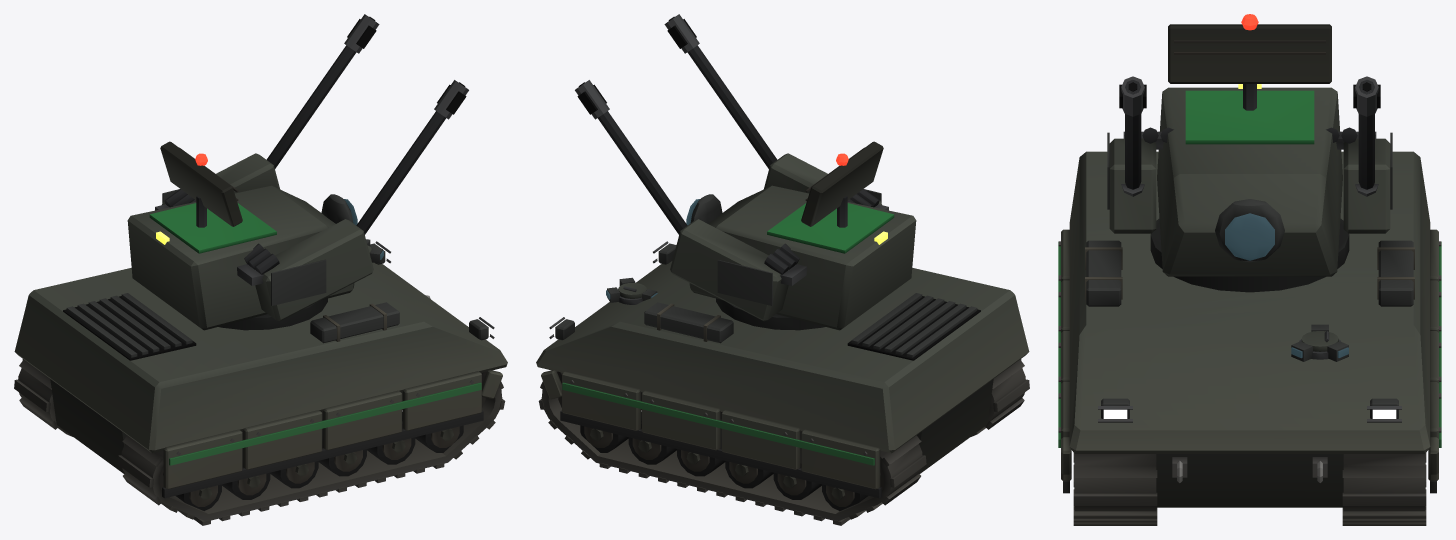
3 views of the same model, side by side, from view 1: azimuth 30°, elevation 25°; view 2: azimuth 150°, elevation 25°; view 3: azimuth 270°, elevation 25° (orthographic). The views are drawn at different scales.
Visible parts, largest first — view 1: Aa_Walls, Aa_turret, Aa_Details, Aa_Foundation, Aa_rotor, Aa_Frame; view 2: Aa_Walls, Aa_turret, Aa_Details, Aa_Foundation, Aa_rotor, Aa_Frame; view 3: Aa_Walls, Aa_turret, Aa_Details, Aa_rotor, Aa_Foundation.
Part boxes in pixels (left/top/right/bottom): Aa_Walls: left=14, top=262, right=507, bottom=489; Aa_turret: left=127, top=14, right=468, bottom=330; Aa_Details: left=14, top=239, right=505, bottom=525; Aa_Foundation: left=18, top=368, right=502, bottom=520; Aa_rotor: left=160, top=141, right=242, bottom=227; Aa_Frame: left=159, top=397, right=482, bottom=506; Aa_Walls: left=536, top=261, right=1029, bottom=489; Aa_turret: left=575, top=14, right=916, bottom=330; Aa_Details: left=538, top=241, right=1029, bottom=525; Aa_Foundation: left=541, top=368, right=1025, bottom=520; Aa_rotor: left=801, top=141, right=883, bottom=227; Aa_Frame: left=561, top=397, right=884, bottom=506; Aa_Walls: left=1061, top=151, right=1438, bottom=507; Aa_turret: left=1107, top=76, right=1392, bottom=292; Aa_Details: left=1058, top=240, right=1441, bottom=525; Aa_rotor: left=1168, top=14, right=1331, bottom=110; Aa_Foundation: left=1074, top=454, right=1425, bottom=511.
Size of the model in its own units: 0.9692 by 0.8866 by 0.656.
